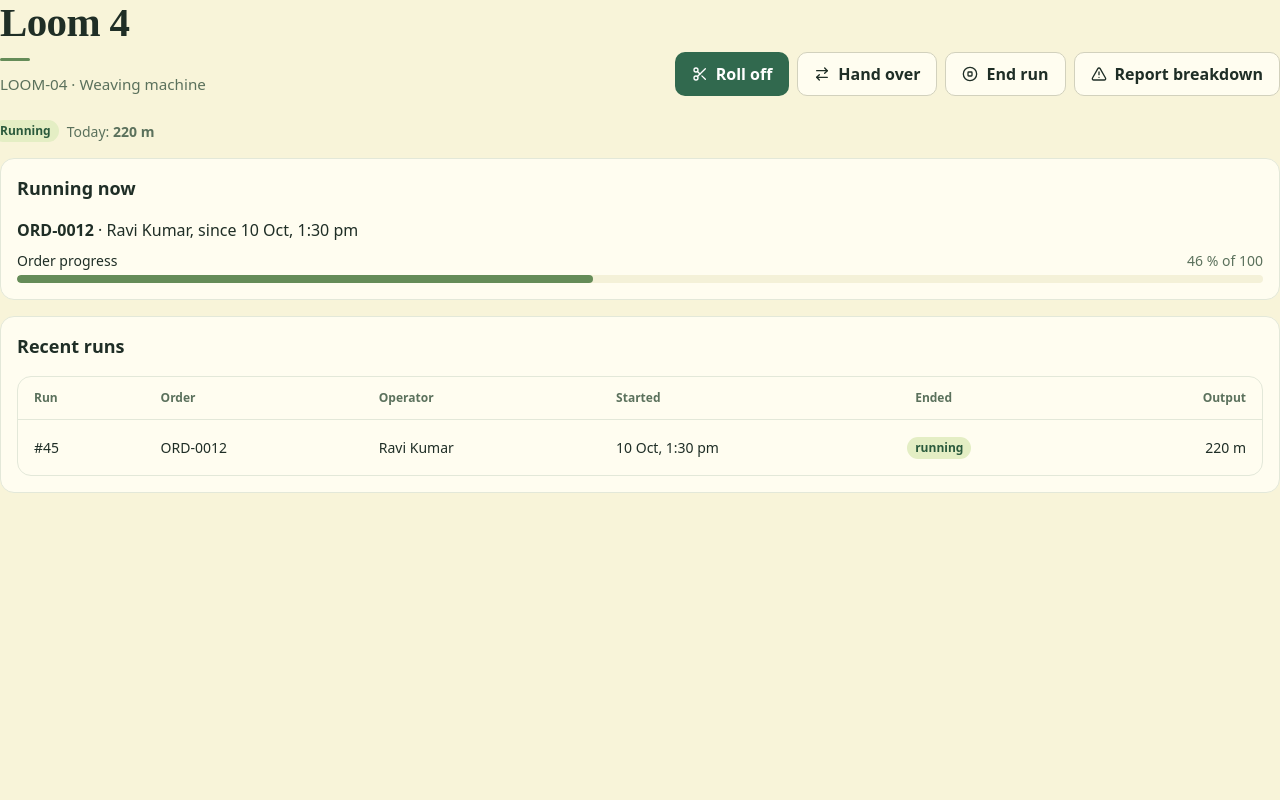
MachineDetail: what you can do › shows the server's reason when an action is refused
The image size is (1280, 800).
Click the button "Roll off": (732, 74) [675, 52, 789, 96]
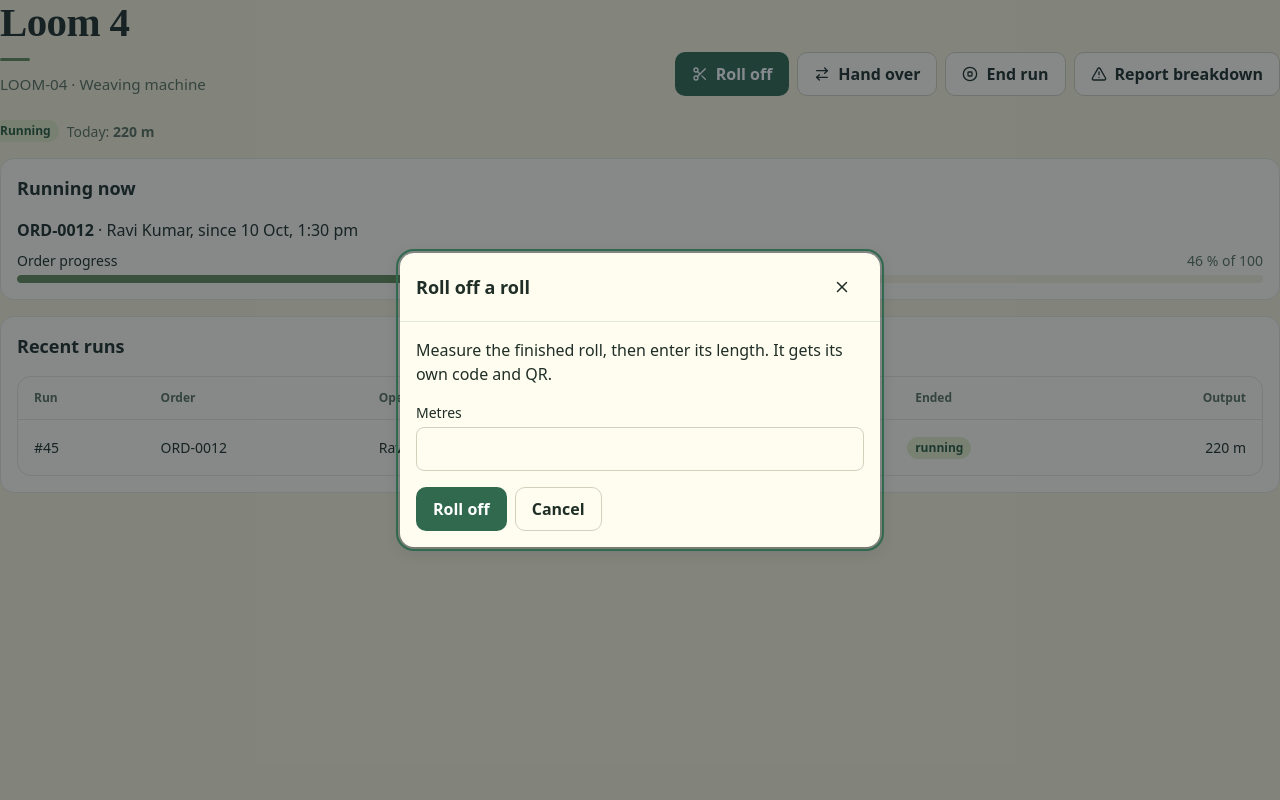
In the number field labelled "Metres": (640, 449) [416, 427, 864, 471], type "50"
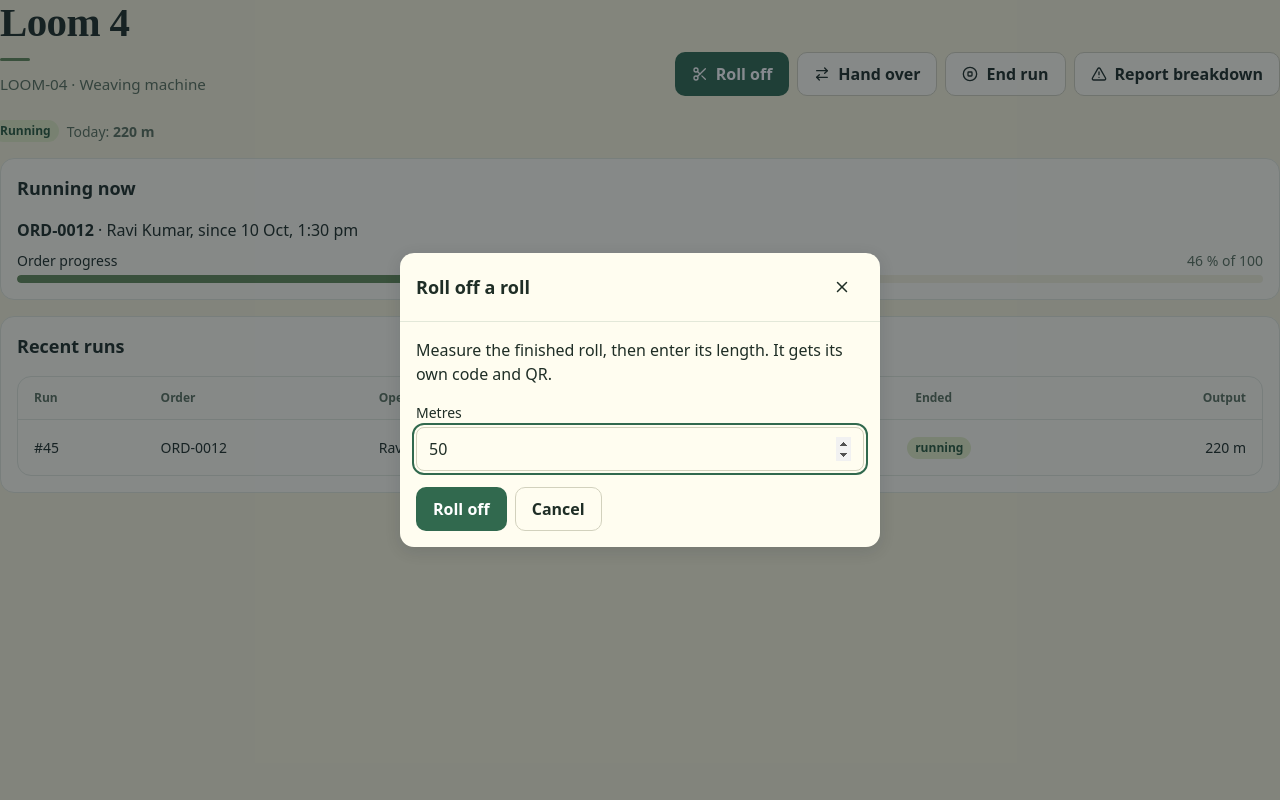
Click the button "Roll off": (461, 509) [416, 487, 507, 531]
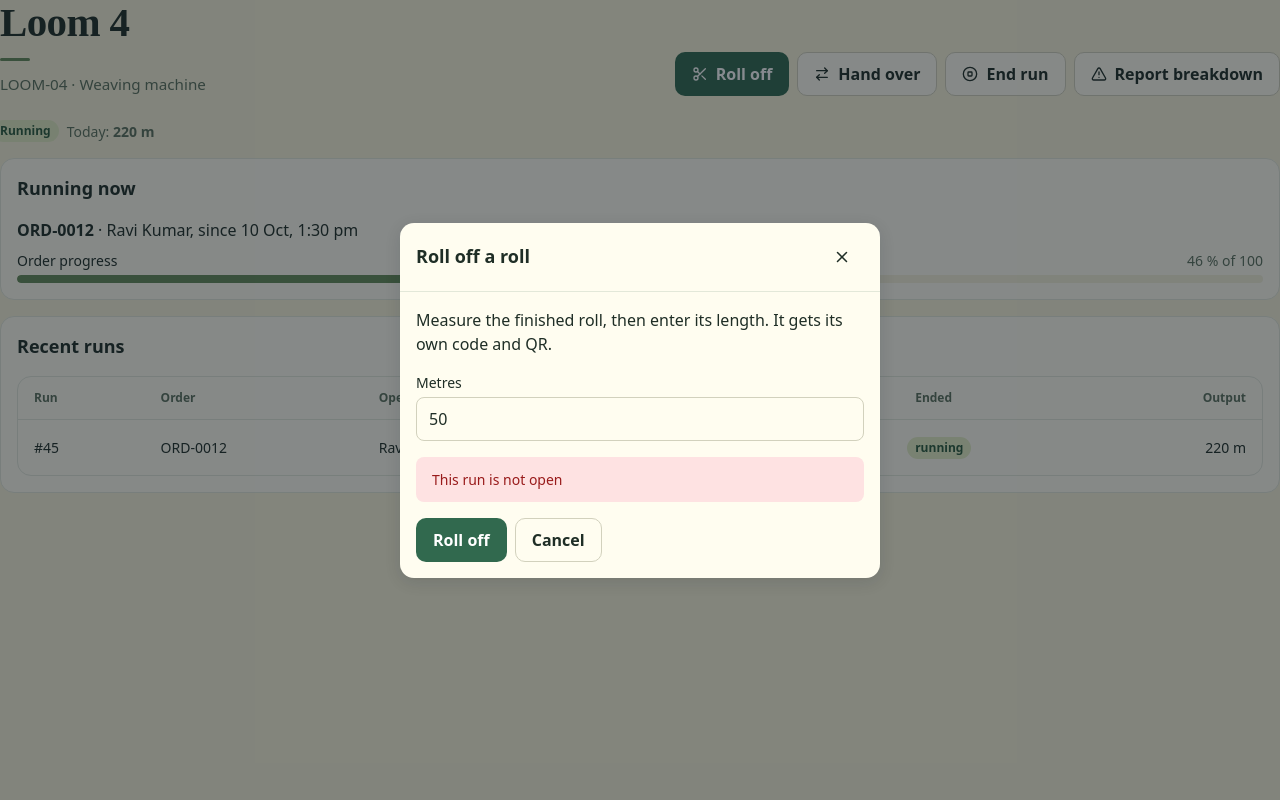
Expected: the message reads "This run is not open", [432, 470, 562, 488]
